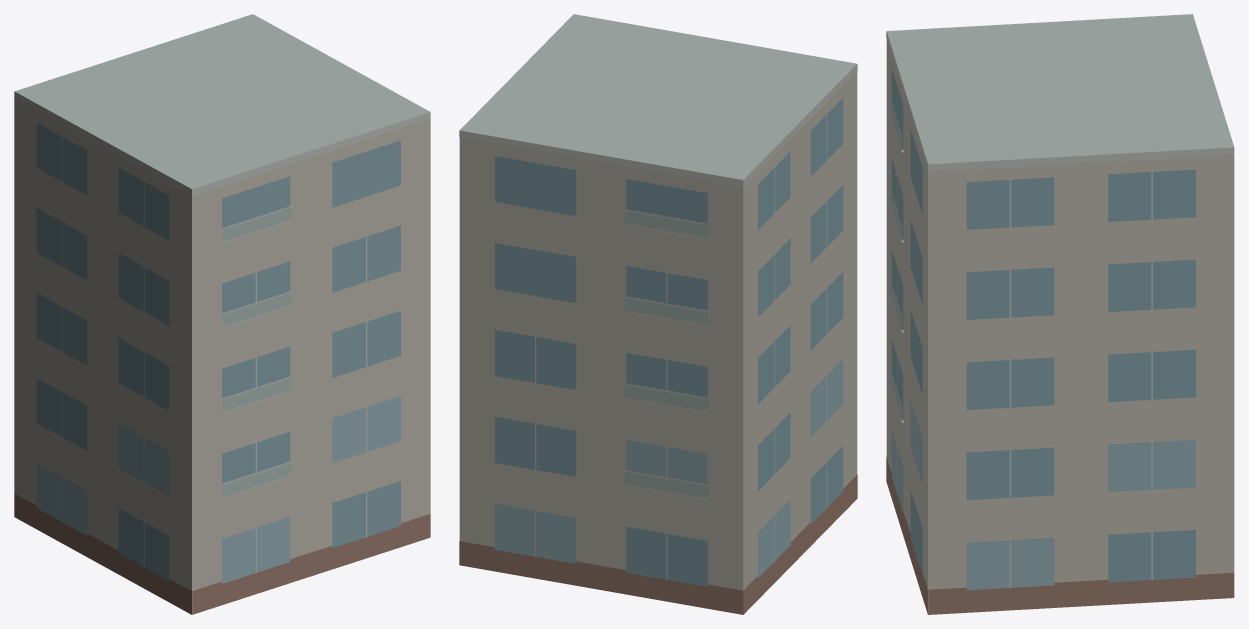
The model's file is survey-upis-33013246.glb.
3 renders of one model, left to right at view 1: azimuth 30°, elevation 25°; view 2: azimuth 150°, elevation 25°; view 3: azimuth 270°, elevation 25°, orthographic. The views are drawn at different scales.
Parts seen in each view (by area): view 1: survey-upis-33013246.tmp; view 2: survey-upis-33013246.tmp; view 3: survey-upis-33013246.tmp.
Part boxes in pixels (box(x1,y1,x2,y2)): survey-upis-33013246.tmp: box(14, 14, 430, 614); survey-upis-33013246.tmp: box(459, 14, 857, 614); survey-upis-33013246.tmp: box(886, 14, 1234, 614).
Bounding box in the file's own units: 10.57 × 14.75 × 10.33.
